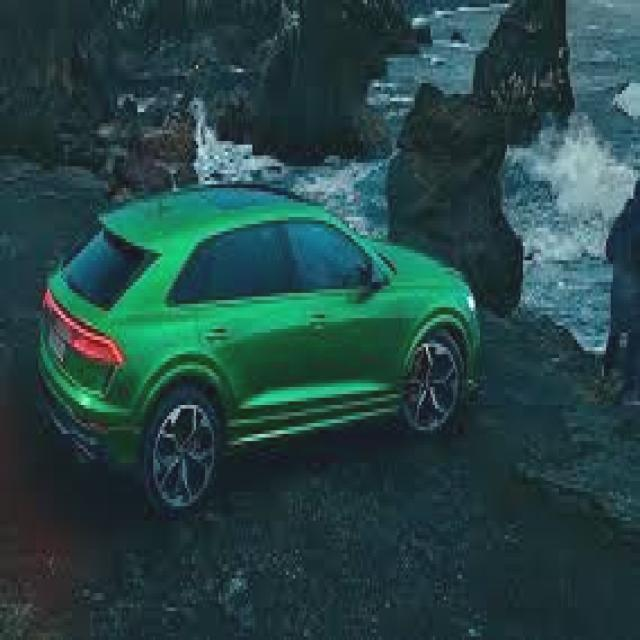SUV: (36, 188, 490, 522)
